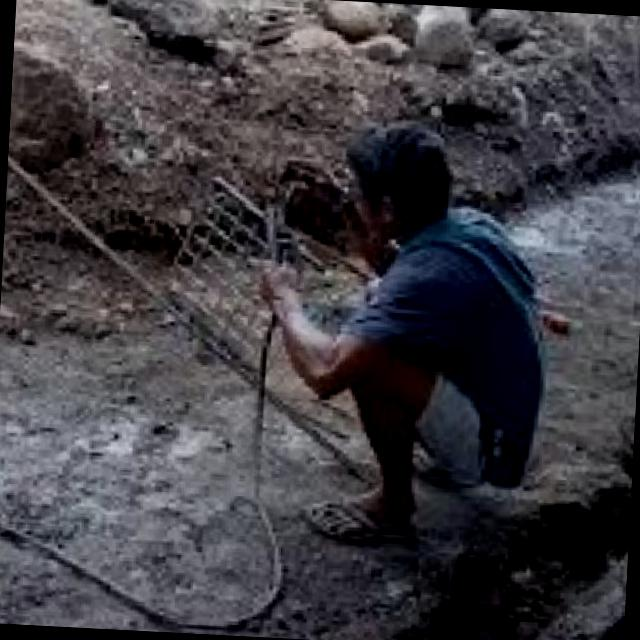no-boots: (292, 437, 424, 552)
no-gloves: (240, 263, 360, 401)
no-helmet: (335, 97, 470, 256)
no-vest: (369, 200, 537, 406)
person: (228, 62, 557, 569)
